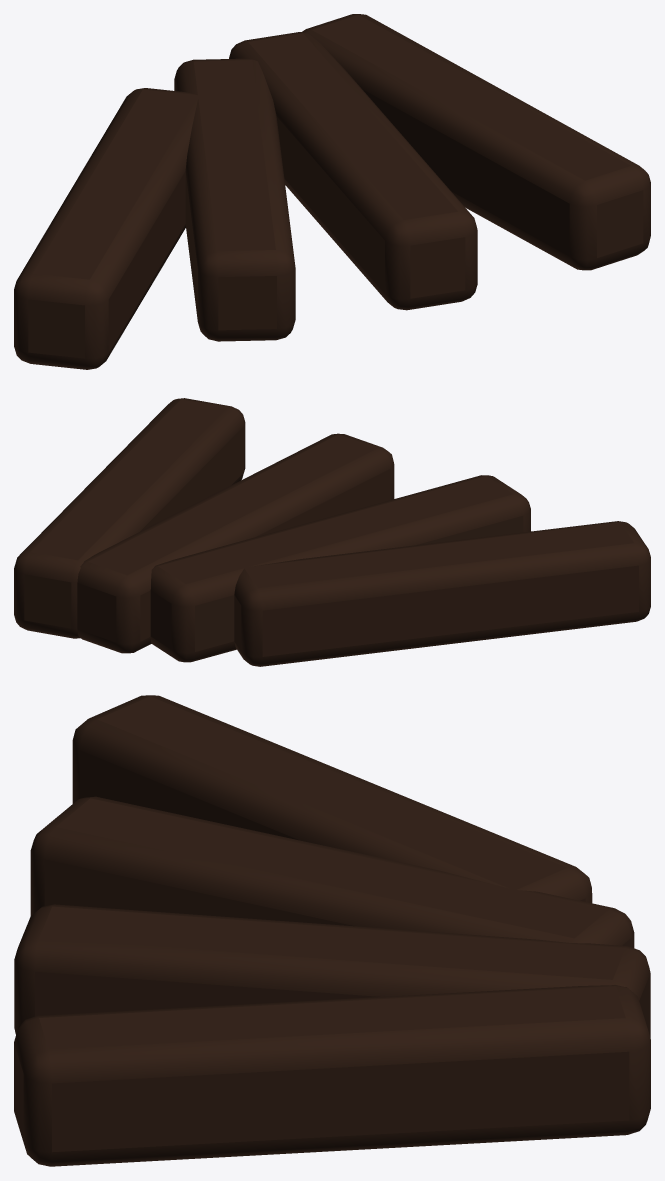
Rendered from lo_cui.glb.
3 renders of one model, top to bottom at view 1: azimuth 30°, elevation 25°; view 2: azimuth 150°, elevation 25°; view 3: azimuth 270°, elevation 25°, orthographic. The views are drawn at different scales.
Parts seen in each view (by area): view 1: lo_cui; view 2: lo_cui; view 3: lo_cui.
Boxes of the visible parts, left/top/right/bottom form: lo_cui: left=14, top=14, right=650, bottom=369; lo_cui: left=14, top=398, right=650, bottom=666; lo_cui: left=14, top=695, right=650, bottom=1166.
Size of the model in its own units: 0.3502 by 0.05 by 0.2518.
